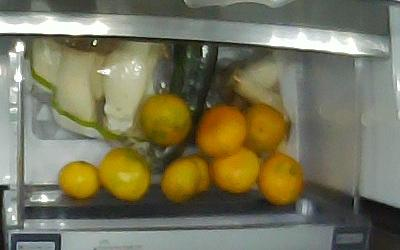tangerine: (96, 146, 151, 201), (137, 92, 191, 145), (194, 103, 247, 157), (239, 101, 286, 155), (207, 145, 261, 192), (255, 151, 303, 203), (57, 159, 101, 199), (159, 159, 199, 200), (193, 158, 210, 194)
